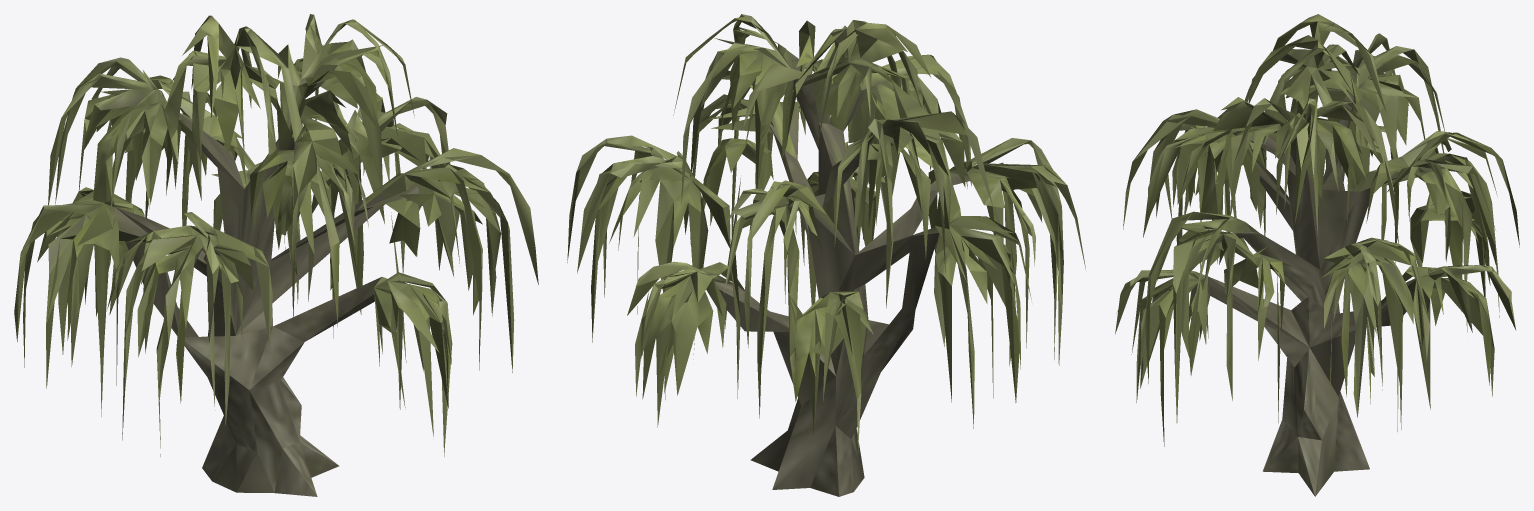
3 views of the same model, side by side, from view 1: azimuth 30°, elevation 25°; view 2: azimuth 150°, elevation 25°; view 3: azimuth 270°, elevation 25° (orthographic). The views are drawn at different scales.
Visible parts, largest first — view 1: willow; view 2: willow; view 3: willow.
Boxes of the visible parts, x1,y1,x2,y2 form: willow: (14, 14, 538, 496); willow: (567, 14, 1085, 496); willow: (1115, 14, 1519, 496).
Size of the model in its own units: 0.9551 by 0.9661 by 0.8377.
1 material, 1 textured.
